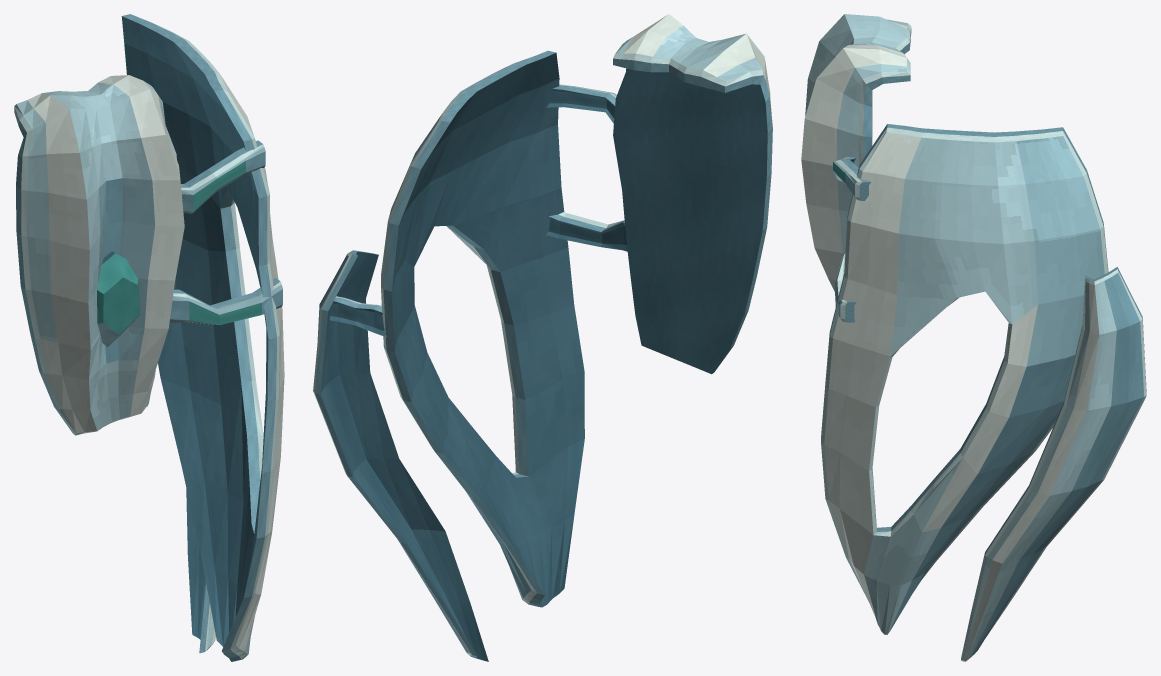
The model's file is zhuji_baiqing_lingyun_gauntlet.glb.
3 views of the same model, side by side, from view 1: azimuth 30°, elevation 25°; view 2: azimuth 150°, elevation 25°; view 3: azimuth 270°, elevation 25° (orthographic). The views are drawn at different scales.
Parts seen in each view (by area): view 1: 透空主翼, 折脊护手, 凝云玉心, 腕侧榫扣, 拳侧榫扣, 下叠尾翼; view 2: 透空主翼, 折脊护手, 下叠尾翼, 腕侧榫扣, 拳侧榫扣, 尾翼卡座; view 3: 透空主翼, 下叠尾翼, 折脊护手, 拳侧榫扣, 腕侧榫扣.
Boxes of the visible parts, x1,y1,x2,y2 form: 透空主翼: (121,14,284,661); 折脊护手: (14,75,184,435); 凝云玉心: (97,251,140,346); 腕侧榫扣: (169,277,282,325); 拳侧榫扣: (181,140,265,213); 下叠尾翼: (186,488,215,653); 透空主翼: (381,50,584,607); 折脊护手: (613,14,772,374); 下叠尾翼: (313,250,488,661); 腕侧榫扣: (546,212,627,251); 拳侧榫扣: (546,84,616,123); 尾翼卡座: (329,296,386,337); 透空主翼: (821,124,1108,634); 下叠尾翼: (961,267,1146,661); 折脊护手: (801,14,911,291); 拳侧榫扣: (833,157,871,200); 腕侧榫扣: (835,253,856,322).
Size of the model in its own units: 12.29 by 23.28 by 13.01.
8 materials, 8 textured.
